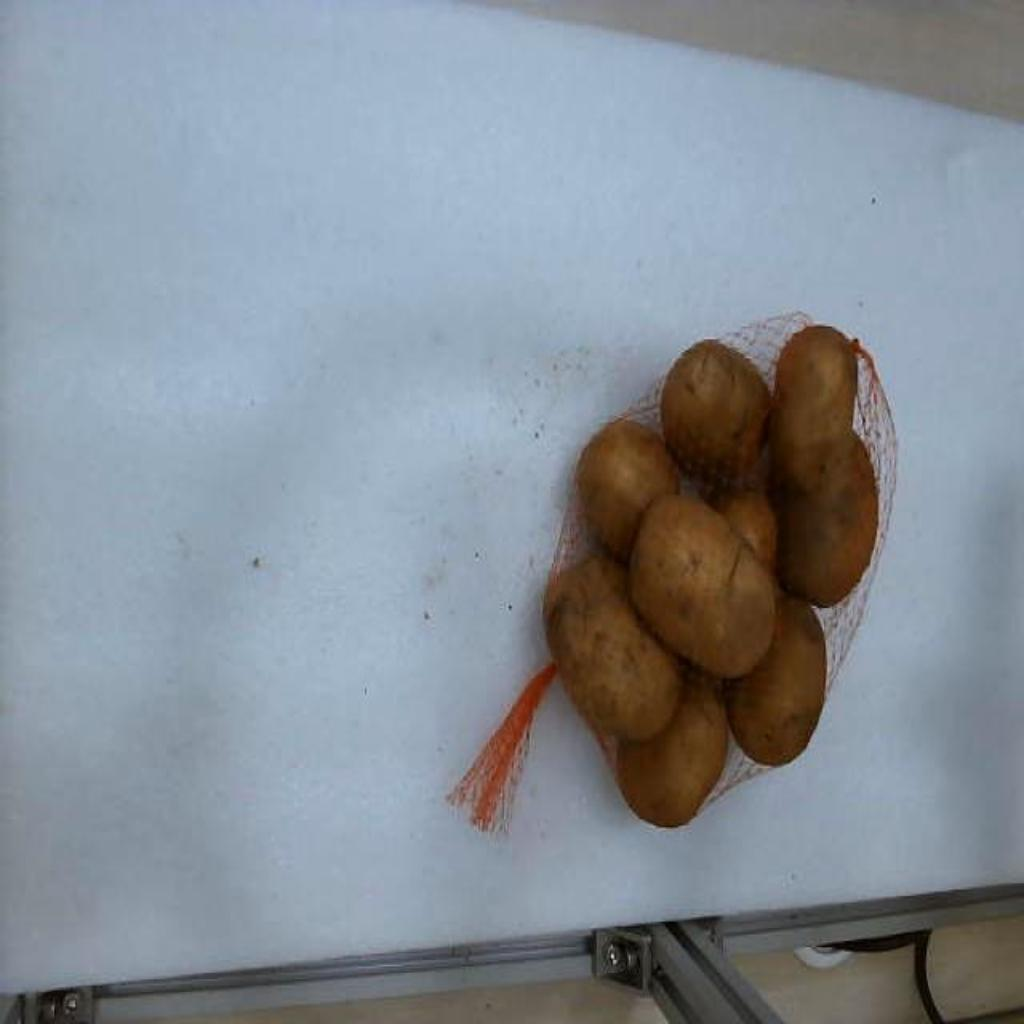potato: (630, 496, 776, 677), (544, 557, 682, 740), (616, 669, 728, 827), (774, 435, 876, 607), (726, 592, 826, 764), (664, 339, 770, 476), (770, 325, 858, 489), (576, 419, 678, 559), (712, 491, 778, 572)
